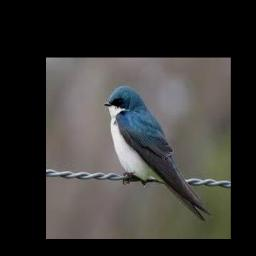Swallow: (102, 86, 211, 221)
